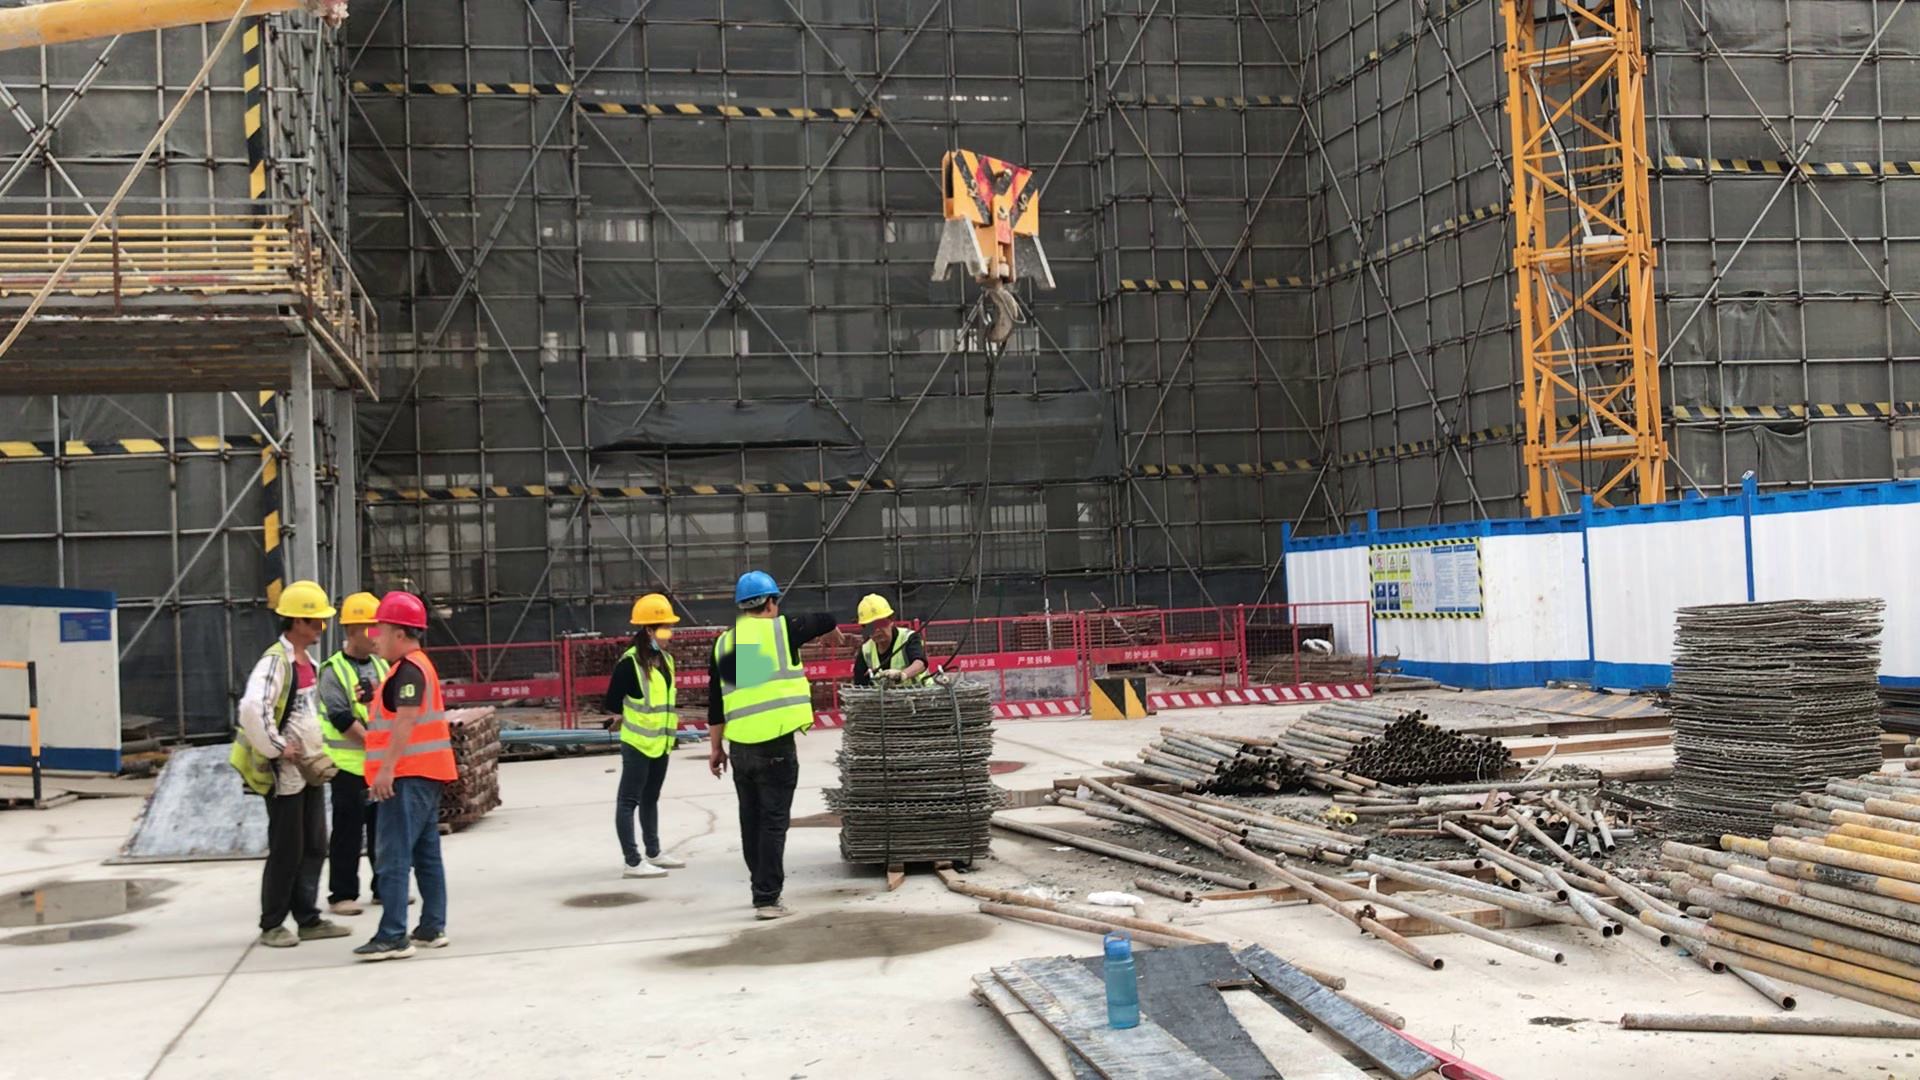fence: (1243, 593, 1367, 698), (988, 606, 1093, 724), (1148, 601, 1233, 708), (499, 634, 595, 727), (2, 643, 50, 797)
helmet: (272, 579, 338, 624), (375, 592, 428, 632), (623, 594, 682, 629), (731, 575, 785, 608), (853, 596, 895, 624), (340, 591, 375, 624)
hook: (922, 141, 1058, 349)
person: (708, 572, 845, 919), (230, 580, 354, 948), (351, 592, 460, 959), (599, 590, 691, 884), (847, 594, 937, 685)
scaffold: (1636, 770, 1920, 1026), (1270, 695, 1523, 776), (1109, 722, 1319, 793)
slogan: (1371, 544, 1481, 615)
vest: (363, 650, 459, 790), (714, 616, 816, 745), (230, 642, 295, 801), (621, 644, 679, 760), (858, 629, 933, 683)
